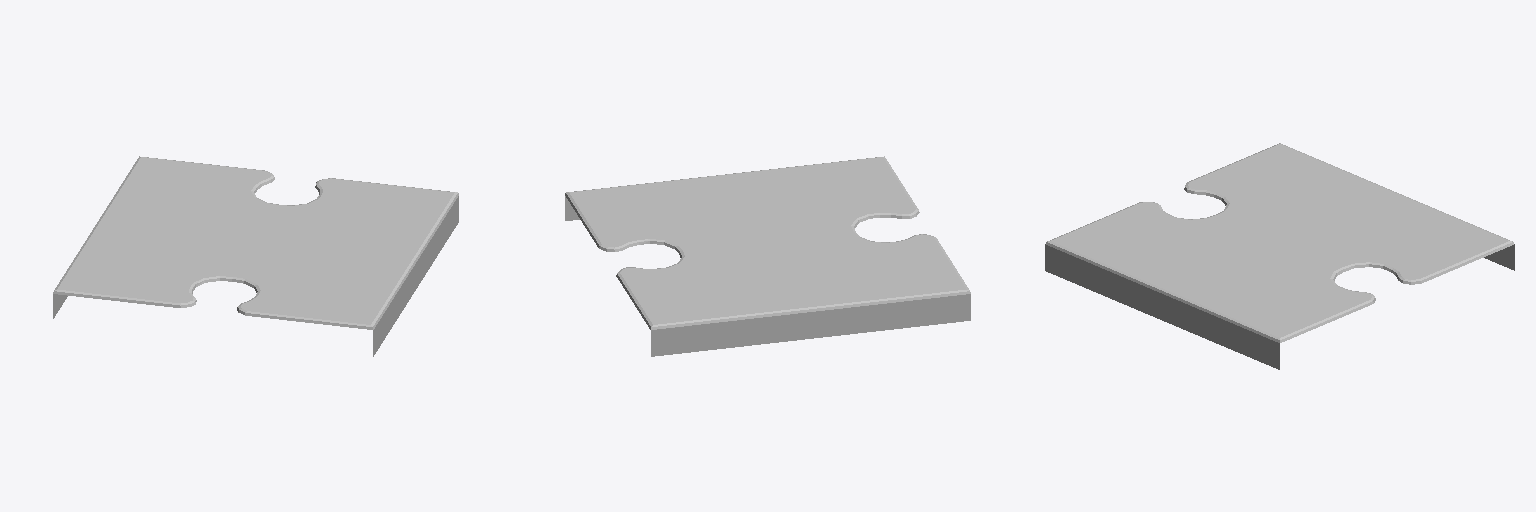
The model's file is Straight Diagonal LTR Dips.obj.
3 views of the same model, side by side, from view 1: azimuth 30°, elevation 25°; view 2: azimuth 150°, elevation 25°; view 3: azimuth 270°, elevation 25° (orthographic).
Visible parts, largest first — view 1: PuzzleStraightDiagonalLTRDips; view 2: PuzzleStraightDiagonalLTRDips; view 3: PuzzleStraightDiagonalLTRDips.
Boxes of the visible parts, box(x1,y1,x2,y2) form: PuzzleStraightDiagonalLTRDips: box(53, 156, 458, 356); PuzzleStraightDiagonalLTRDips: box(565, 156, 970, 356); PuzzleStraightDiagonalLTRDips: box(1045, 143, 1514, 369).
Size of the model in its own units: 835 by 59.05 by 835.